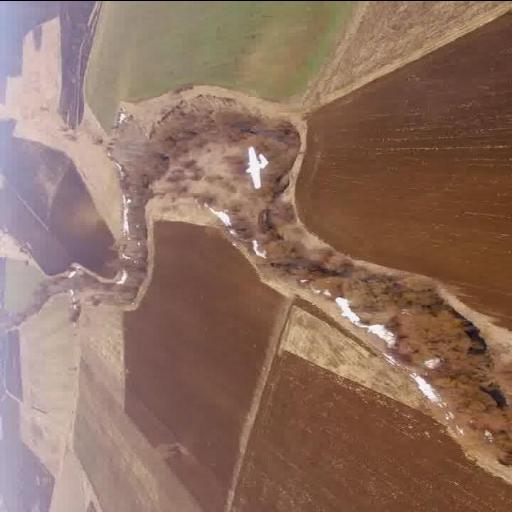uav: (214, 127, 303, 204)
